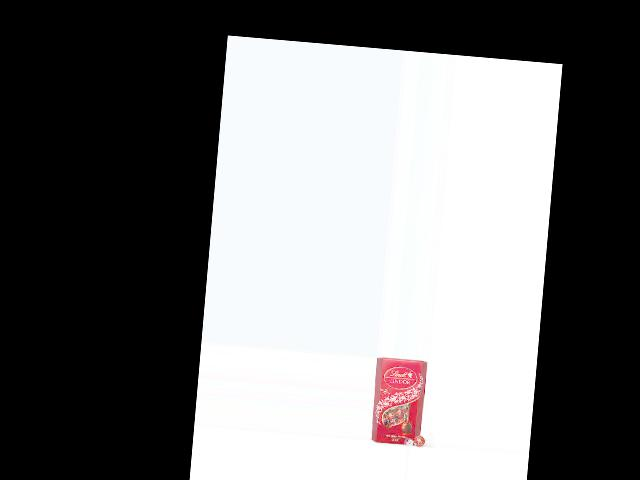chocolate: (370, 357, 432, 446)
